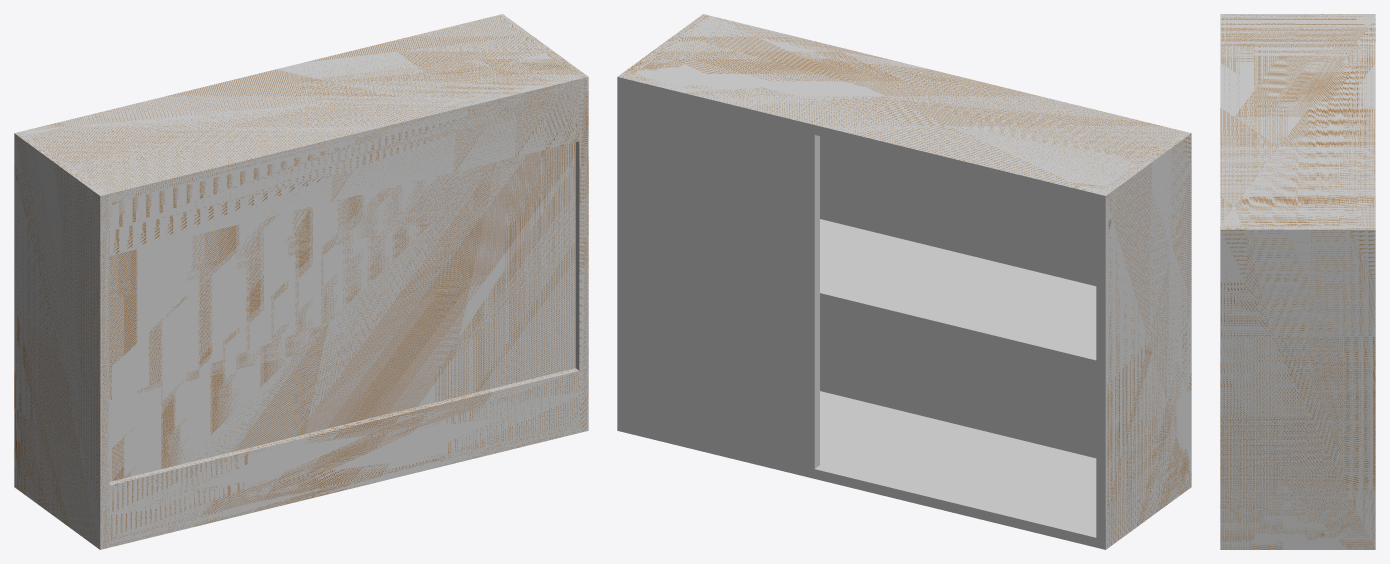
The picture shows the model from 3 angles, left to right: view 1: azimuth 30°, elevation 25°; view 2: azimuth 150°, elevation 25°; view 3: azimuth 270°, elevation 25°; orthographic projection. The views are drawn at different scales.
Visible parts, largest first — view 1: mesh14_mesh14-geometry, mesh3_mesh3-geometry, mesh11_mesh11-geometry, mesh15_mesh15-geometry, mesh16_mesh16-geometry, mesh9_mesh9-geometry, mesh5_mesh5-geometry, mesh12_mesh12-geometry; view 2: mesh17_mesh17-geometry, mesh14_mesh14-geometry, mesh3_mesh3-geometry, mesh11_mesh11-geometry, mesh5_mesh5-geometry, mesh1_mesh1-geometry, mesh12_mesh12-geometry, mesh9_mesh9-geometry; view 3: mesh8_mesh8-geometry, mesh3_mesh3-geometry, mesh9_mesh9-geometry, mesh12_mesh12-geometry.
Boxes of the visible parts, x1,y1,x2,y2 form: mesh14_mesh14-geometry: (109,142,575,481); mesh3_mesh3-geometry: (24,16,579,203); mesh11_mesh11-geometry: (14,133,100,549); mesh15_mesh15-geometry: (109,368,579,537); mesh16_mesh16-geometry: (109,89,579,255); mesh9_mesh9-geometry: (494,14,588,432); mesh5_mesh5-geometry: (109,423,579,547); mesh12_mesh12-geometry: (14,131,109,549); mesh17_mesh17-geometry: (626,89,819,468); mesh14_mesh14-geometry: (820,136,1096,458); mesh3_mesh3-geometry: (626,16,1181,203); mesh11_mesh11-geometry: (1105,133,1191,549); mesh5_mesh5-geometry: (626,391,1096,547); mesh1_mesh1-geometry: (820,219,1096,369); mesh12_mesh12-geometry: (1096,131,1191,549); mesh9_mesh9-geometry: (617,14,711,432); mesh8_mesh8-geometry: (1220,229,1375,549); mesh3_mesh3-geometry: (1220,18,1375,225); mesh9_mesh9-geometry: (1220,225,1375,229); mesh12_mesh12-geometry: (1220,14,1375,17).
Size of the model in its own units: 0.7976 by 0.5522 by 0.2429.
